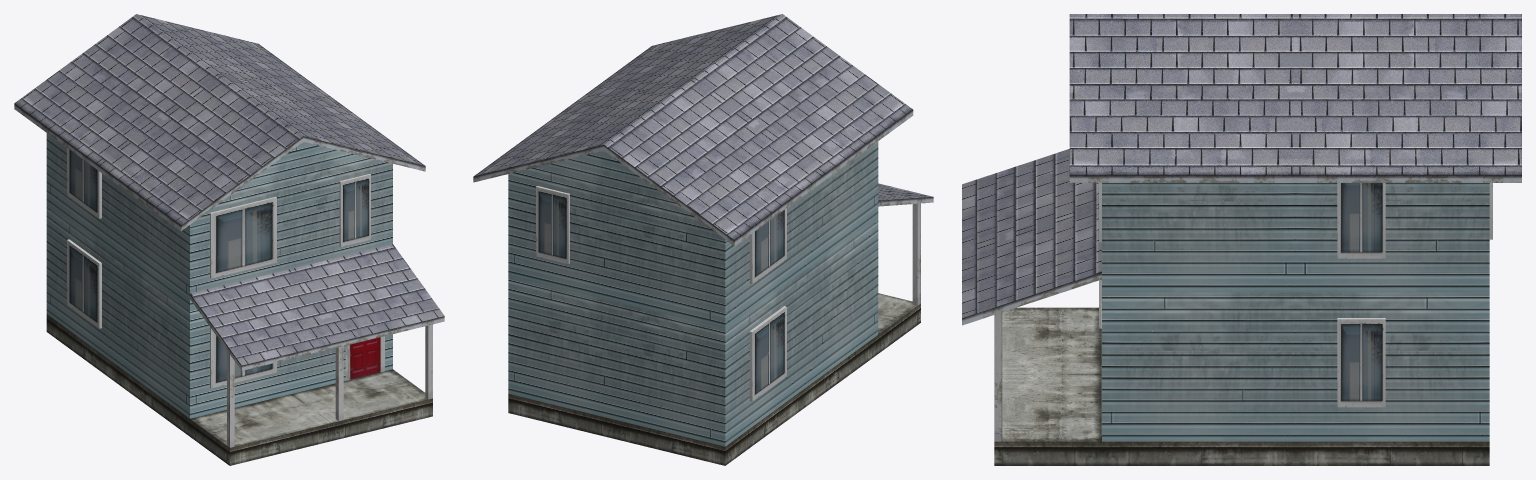
The model's file is houseELOD.FBX.
3 renders of one model, left to right at view 1: azimuth 30°, elevation 25°; view 2: azimuth 150°, elevation 25°; view 3: azimuth 270°, elevation 25°, orthographic. The views are drawn at different scales.
Parts seen in each view (by area): view 1: houseELOD; view 2: houseELOD; view 3: houseELOD.
Boxes of the visible parts, <box> form: houseELOD: <box>14,14,444,465</box>; houseELOD: <box>473,14,933,465</box>; houseELOD: <box>962,14,1521,465</box>.
Bounding box in the file's own units: 181 × 201 × 265.
